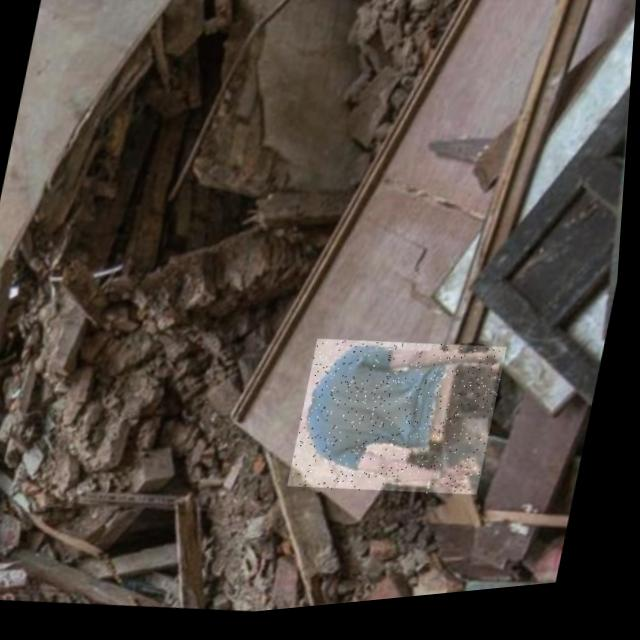Person in Rubble: (293, 331, 514, 520)
